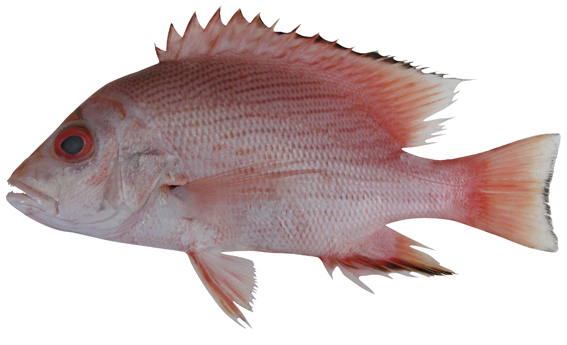fish: (7, 5, 559, 329)
